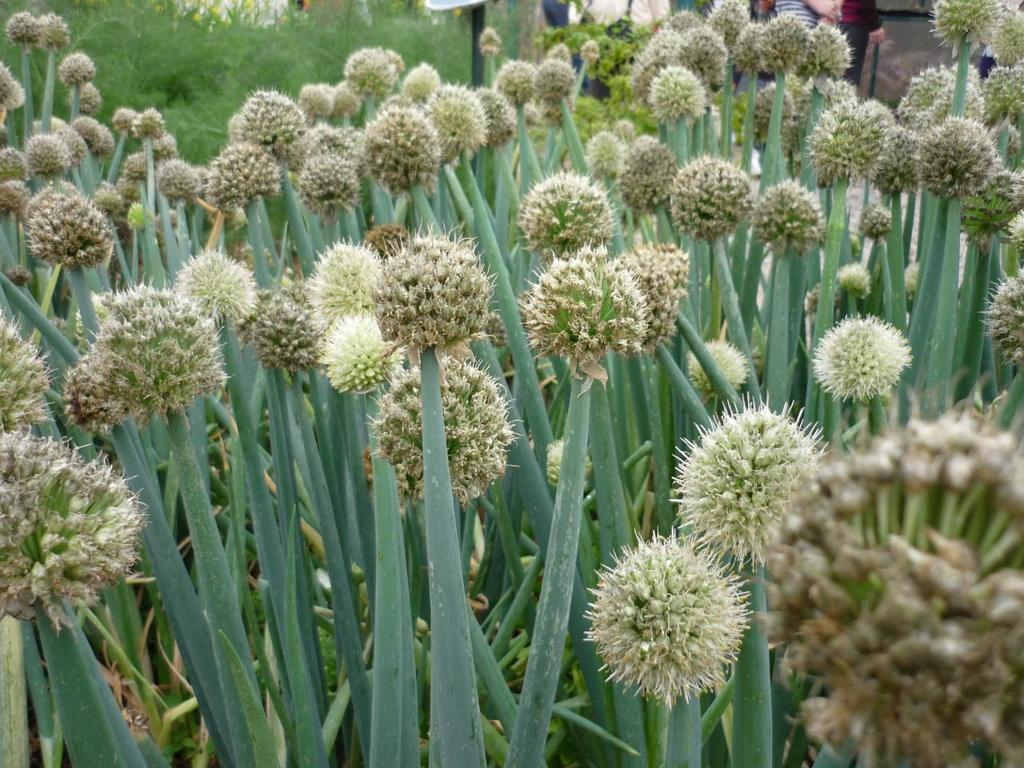person: (753, 0, 886, 94)
